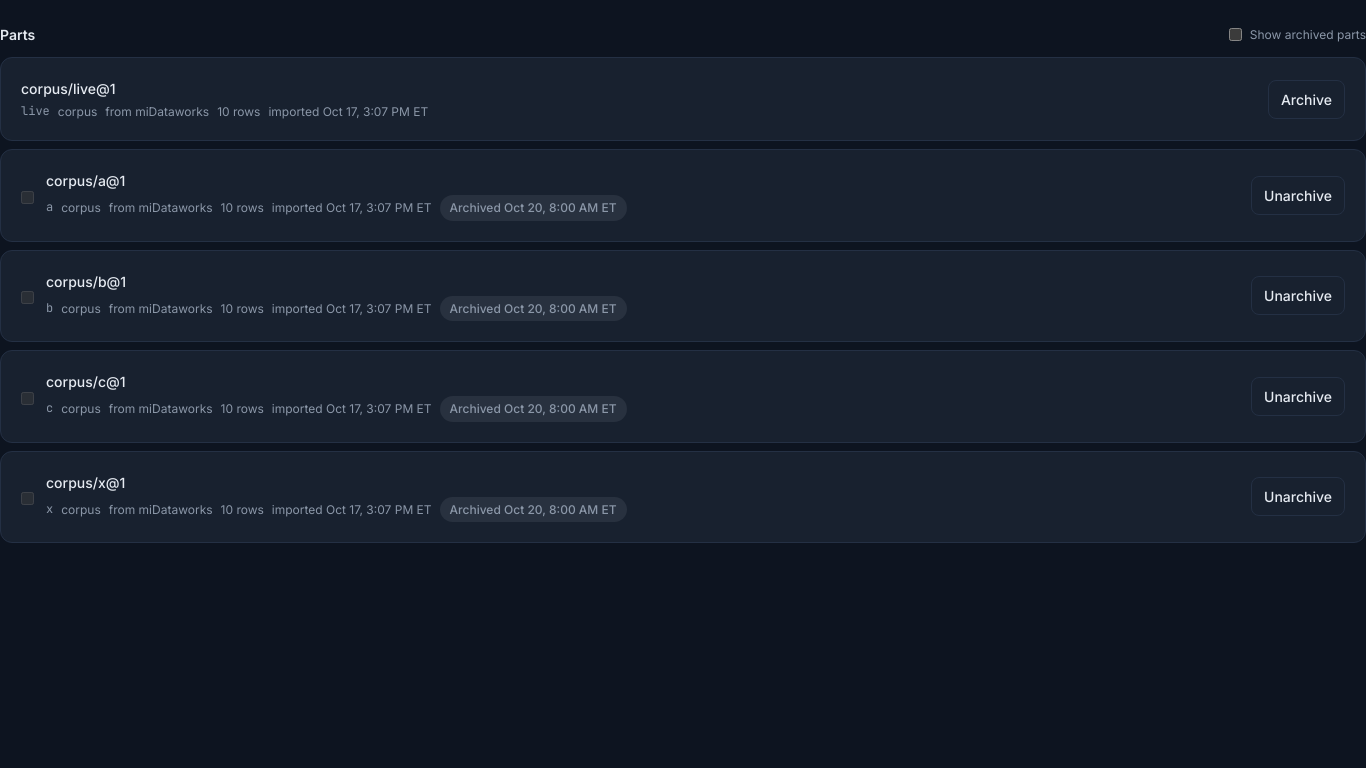
Test case: [PurgeSelection] › should confirm with every item listed and send exactly the selected ids
The image size is (1366, 768).
expect the list item with test id "part-row-live" is shown: met, box 0,57 -> 1365,141
Step 1. Click the checkbox with test id "part-show-archived" → (1235, 34), box 1229,28 -> 1242,41
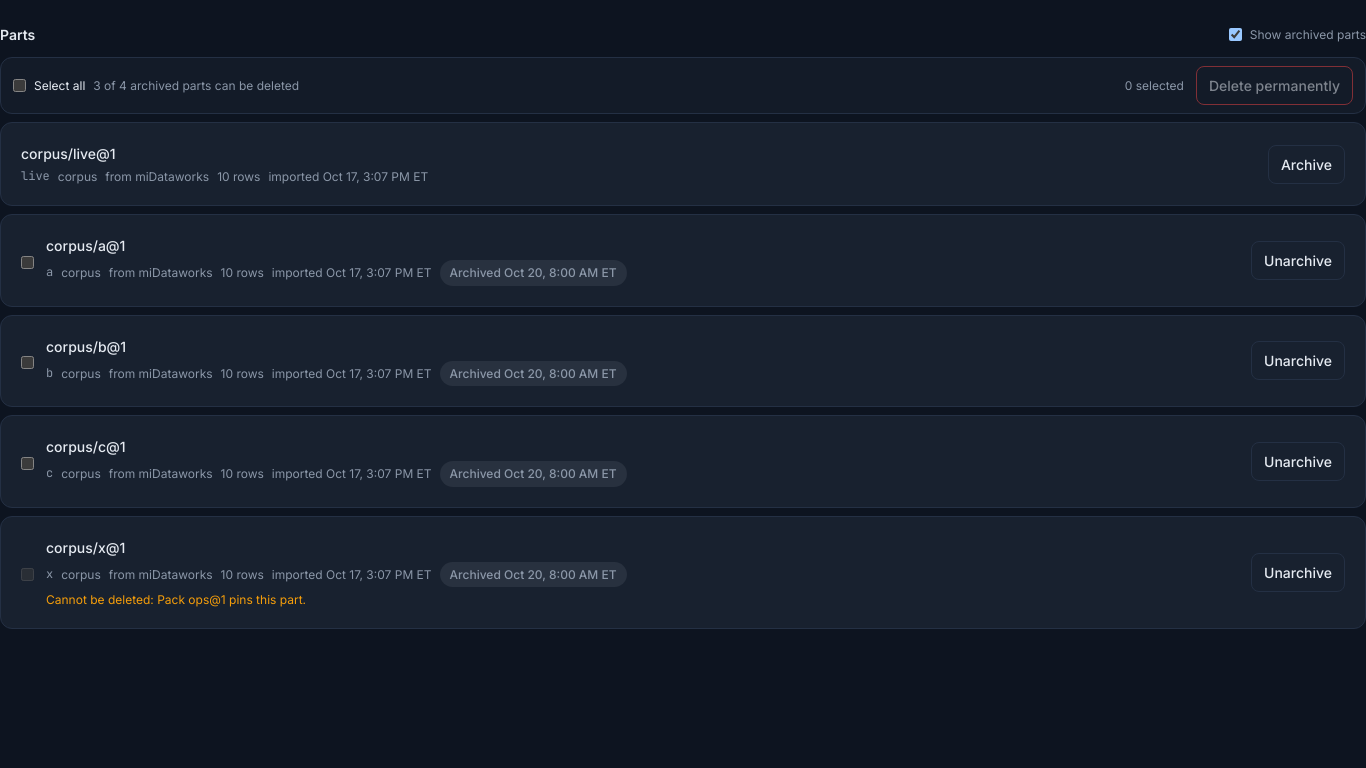
Step 2. Click the checkbox with test id "part-purge-select-all" → (20, 86), box 13,79 -> 26,92
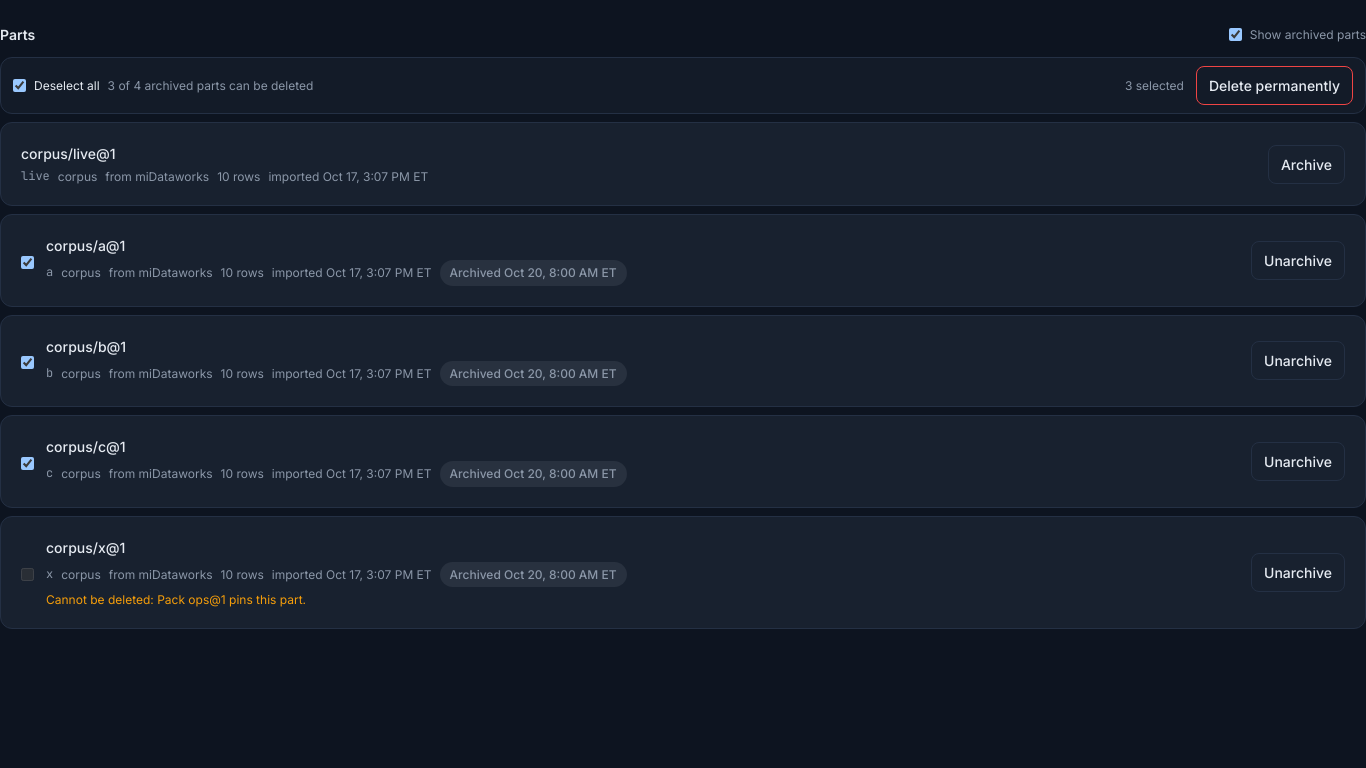
Step 3. Click the checkbox named "Select corpus/b@1 for permanent deletion" → (28, 363), box 21,356 -> 34,370
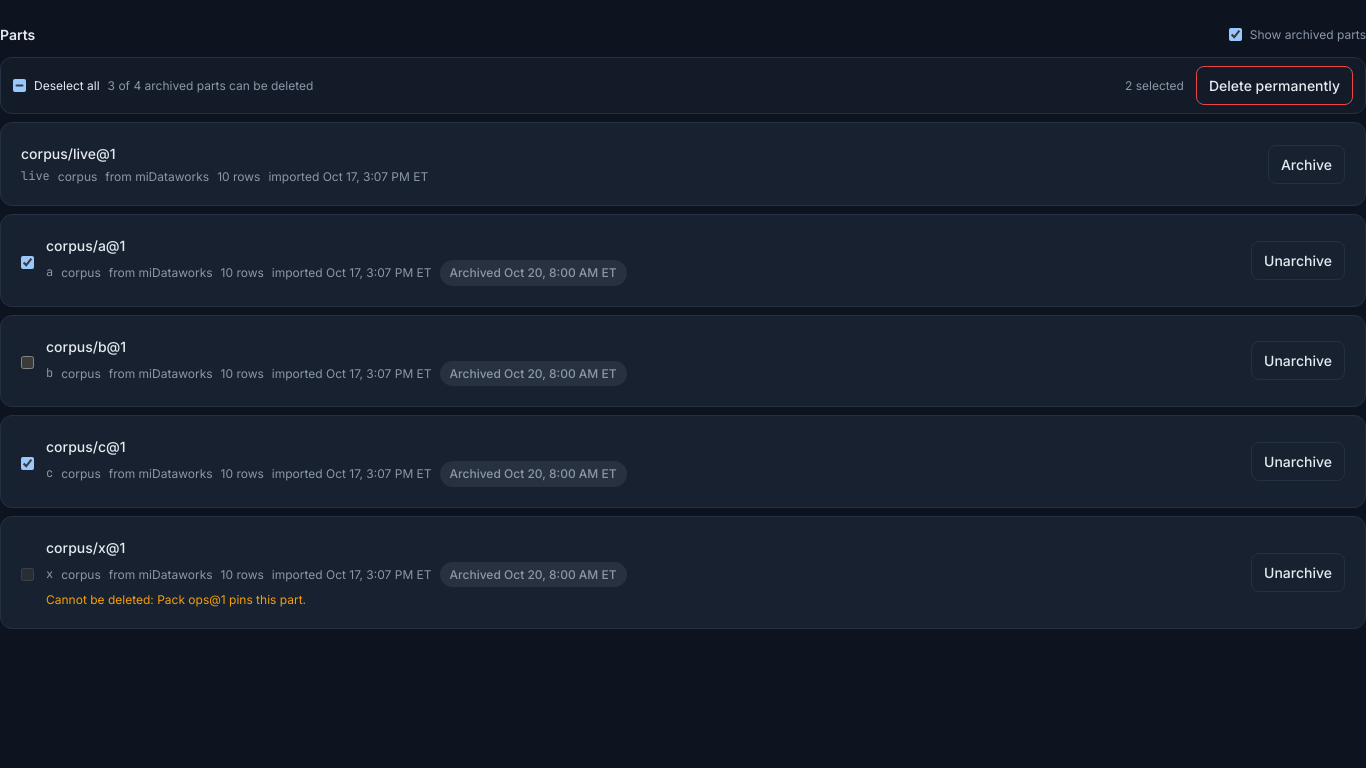
Step 4. Click the button with test id "part-purge-delete" → (1274, 86), box 1196,66 -> 1353,105
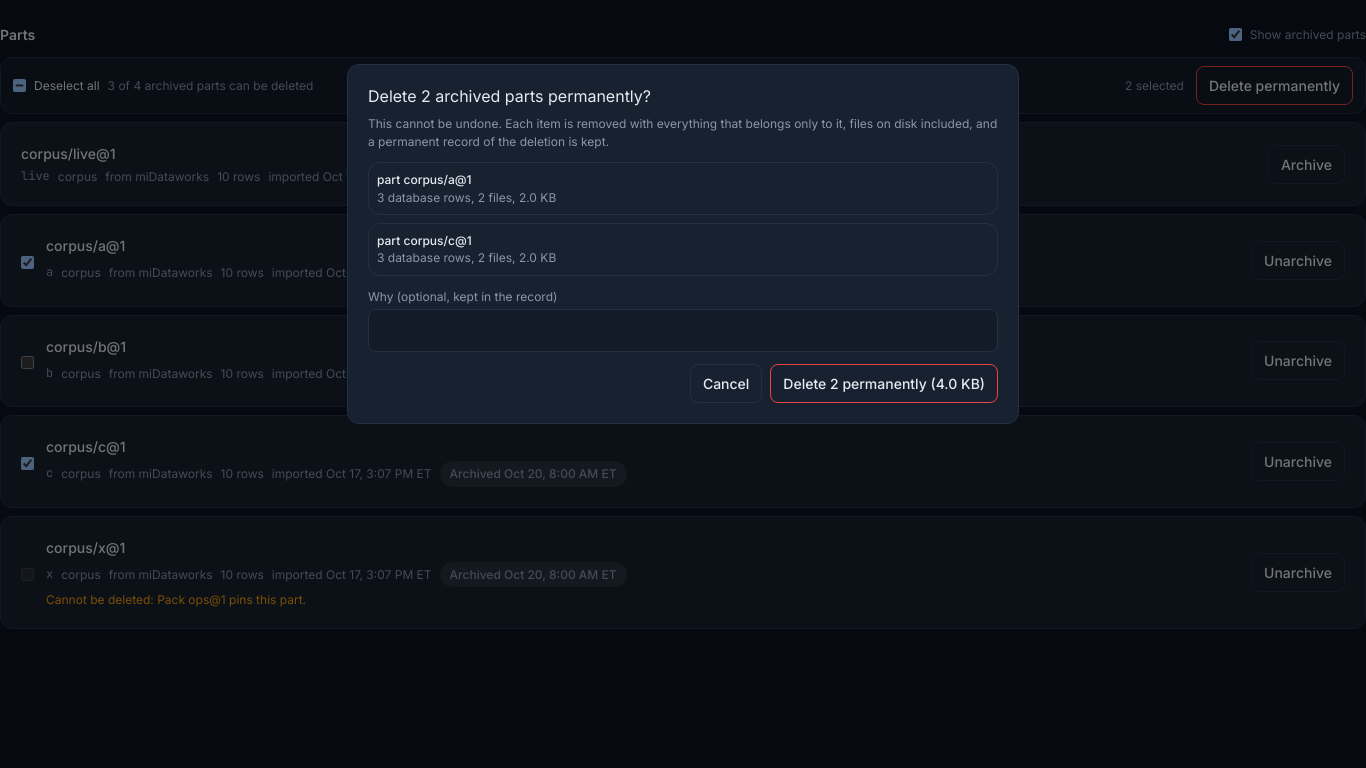
expect the list item with test id "part-purge-going-a" is shown: met, box 368,162 -> 998,215
expect the list item with test id "part-purge-going-c" is shown: met, box 368,223 -> 998,276
Step 5. Type "test clutter" into the field with test id "part-purge-reason" → (683, 331), box 368,309 -> 998,352
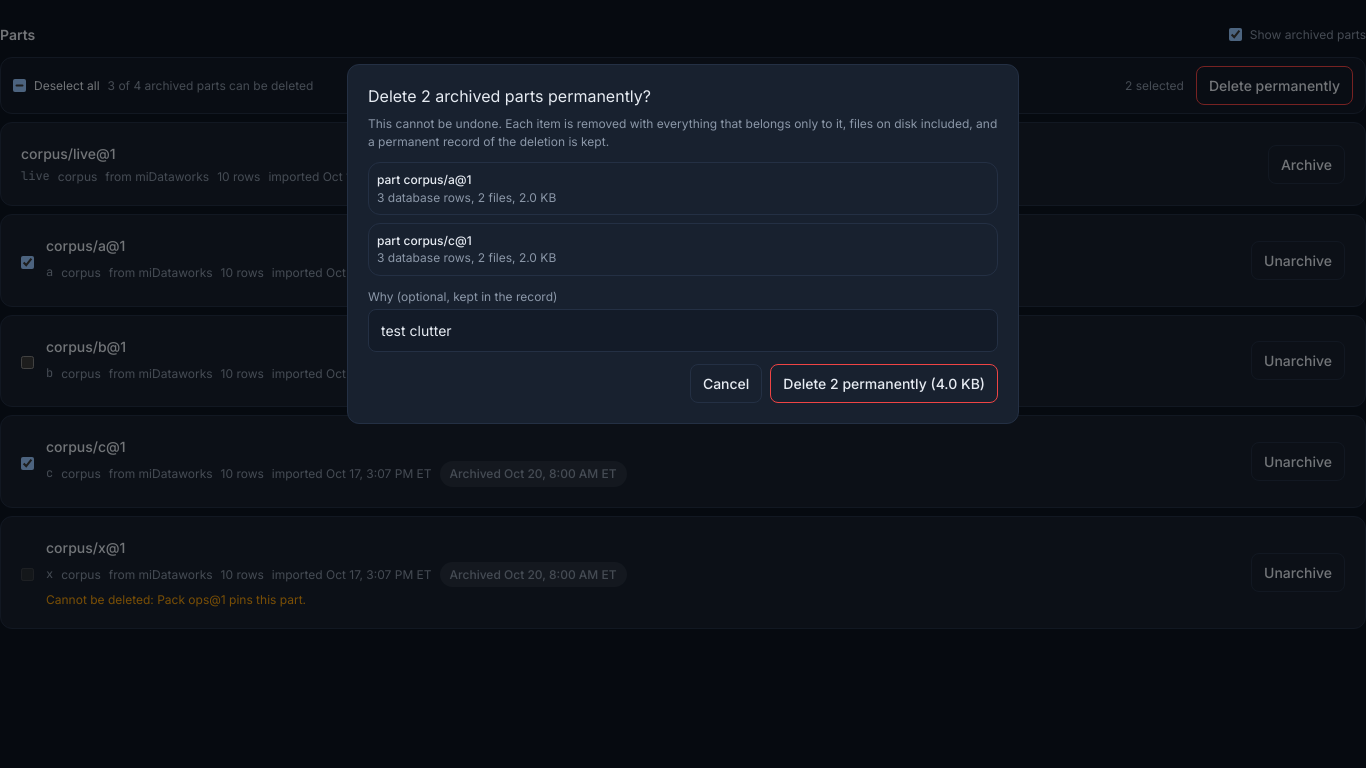
Step 6. Click the button with test id "part-purge-confirm" → (884, 384), box 770,364 -> 998,403
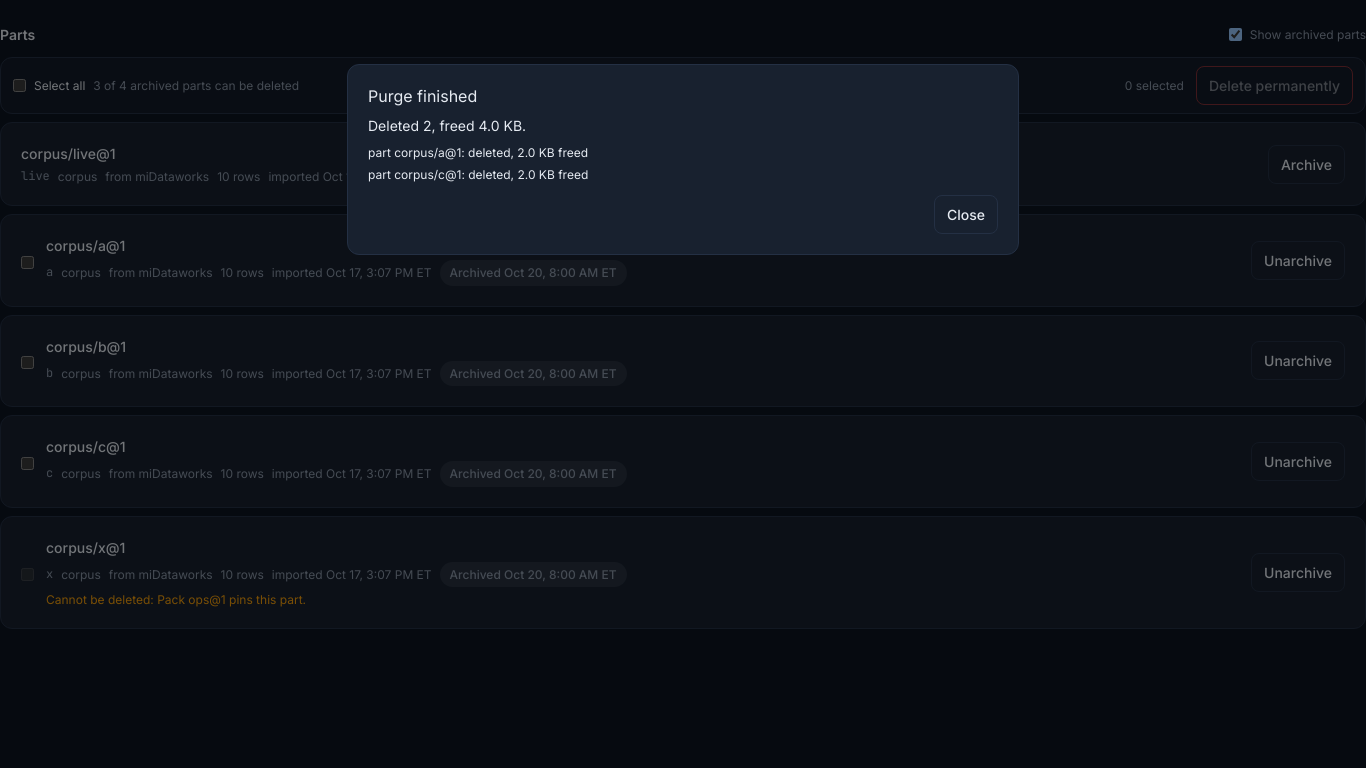
expect the element with test id "part-purge-outcome" is shown: met, box 368,115 -> 998,234
expect the list item with test id "part-purge-result-a" shows "deleted": met, box 368,145 -> 588,160
